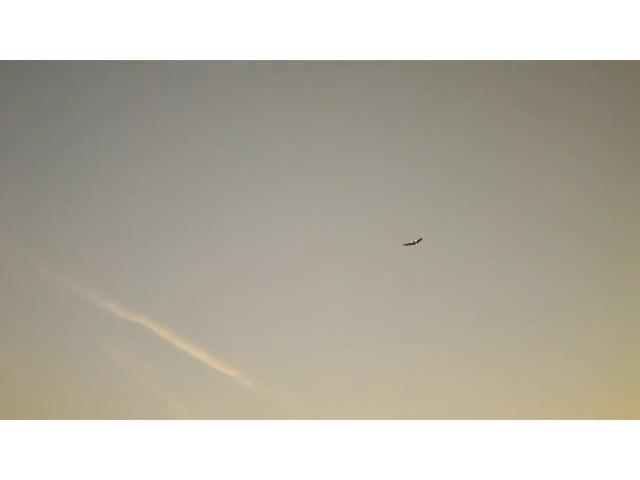Anti-Drone: (403, 238, 423, 246)
